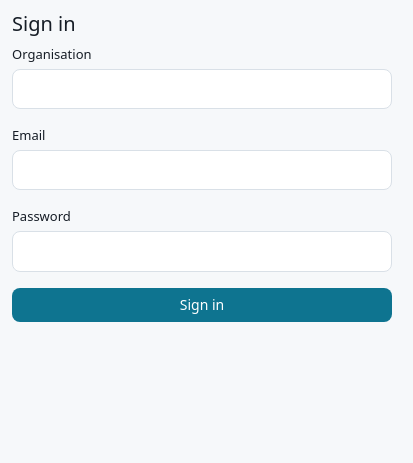
Test: LoginPage › a failed sign-in names all three fields together, and says nothing about which was wrong
Type "acme" into the field labelled "Organisation" at (202, 89), box [12, 69, 392, 109]
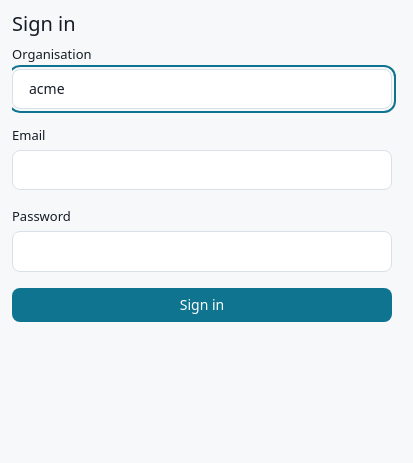
Type "ana@acme.test" into the field labelled "Email" at (202, 170), box [12, 150, 392, 190]
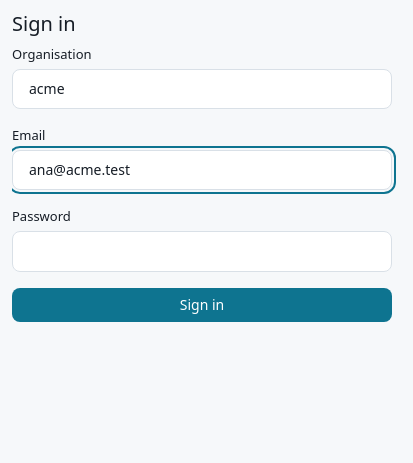
Type "correct horse battery" into the password field labelled "Password" at (202, 251), box [12, 231, 392, 272]
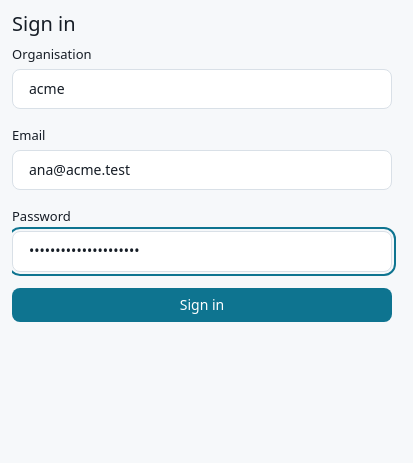
Click the button "Sign in" at (202, 305), box [12, 288, 392, 322]
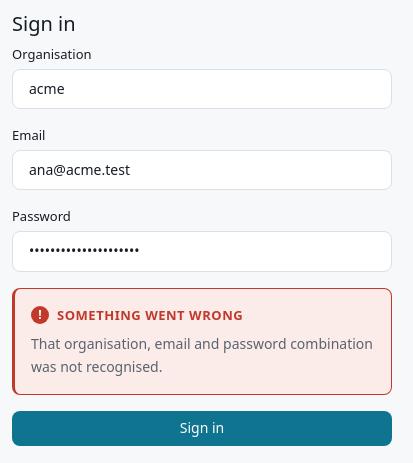
Check: the message shows "That organisation, email and password combination was not recognised.", box [31, 334, 373, 376]
